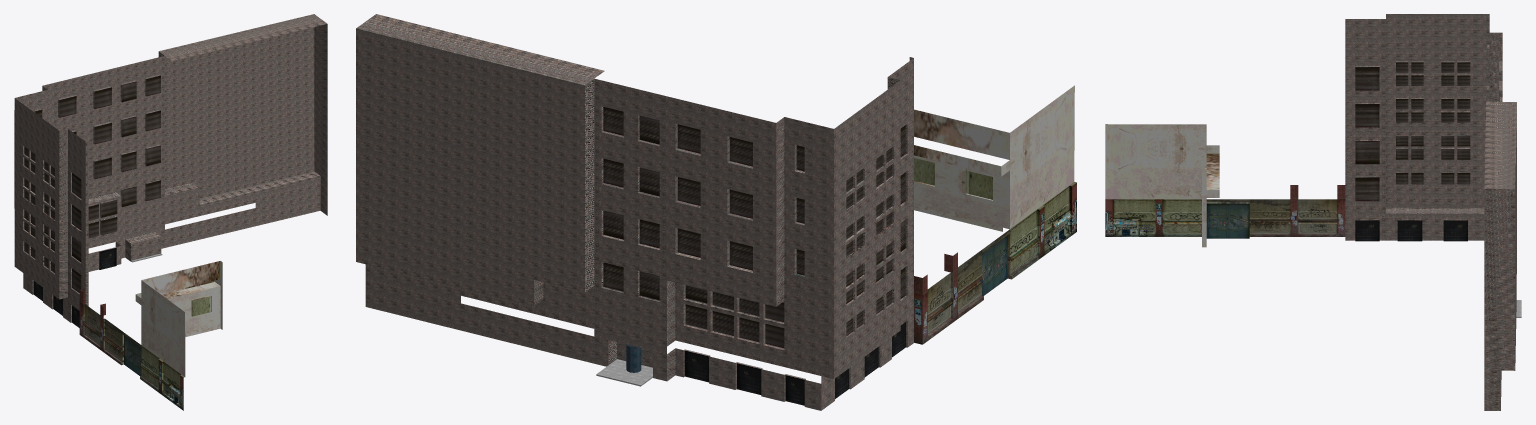
File: Edifcio_Esq_Laprida.fbx
The picture shows the model from 3 angles, left to right: view 1: azimuth 30°, elevation 25°; view 2: azimuth 150°, elevation 25°; view 3: azimuth 270°, elevation 25°; orthographic projection. The views are drawn at different scales.
Visible parts, largest first — view 1: Edificio_esq_Laprida, porton_Laprida; view 2: Edificio_esq_Laprida, porton_Laprida; view 3: Edificio_esq_Laprida, porton_Laprida.
Part boxes in pixels (box(x1,y1,x2,y2)): Edificio_esq_Laprida: box(14, 14, 327, 327); porton_Laprida: box(79, 261, 222, 410); Edificio_esq_Laprida: box(356, 14, 913, 410); porton_Laprida: box(914, 85, 1076, 344); Edificio_esq_Laprida: box(1345, 14, 1521, 410); porton_Laprida: box(1105, 124, 1345, 247).
Size of the model in its own units: 106 by 62.36 by 106.
